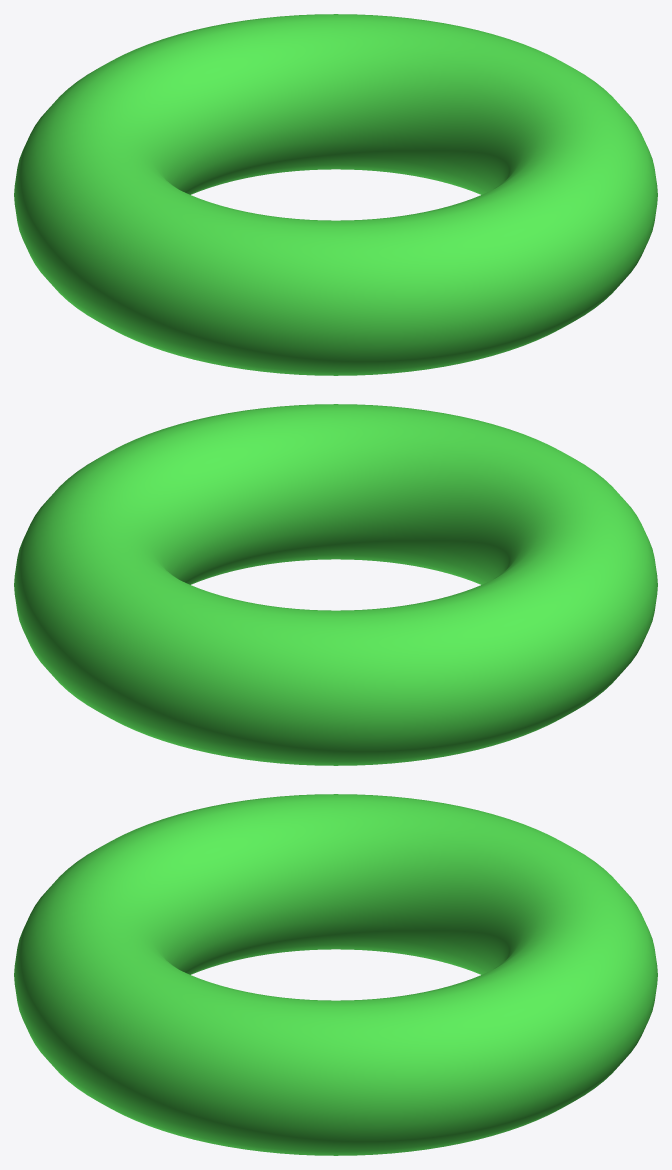
The picture shows the model from 3 angles, top to bottom: view 1: azimuth 30°, elevation 25°; view 2: azimuth 150°, elevation 25°; view 3: azimuth 270°, elevation 25°; orthographic projection.
Parts seen in each view (by area): view 1: Torus; view 2: Torus; view 3: Torus.
Part boxes in pixels (box(x1,y1,x2,y2)): Torus: box(14, 14, 657, 375); Torus: box(14, 404, 657, 765); Torus: box(14, 794, 657, 1155).
Size of the model in its own units: 0.986 by 0.2388 by 0.986.
